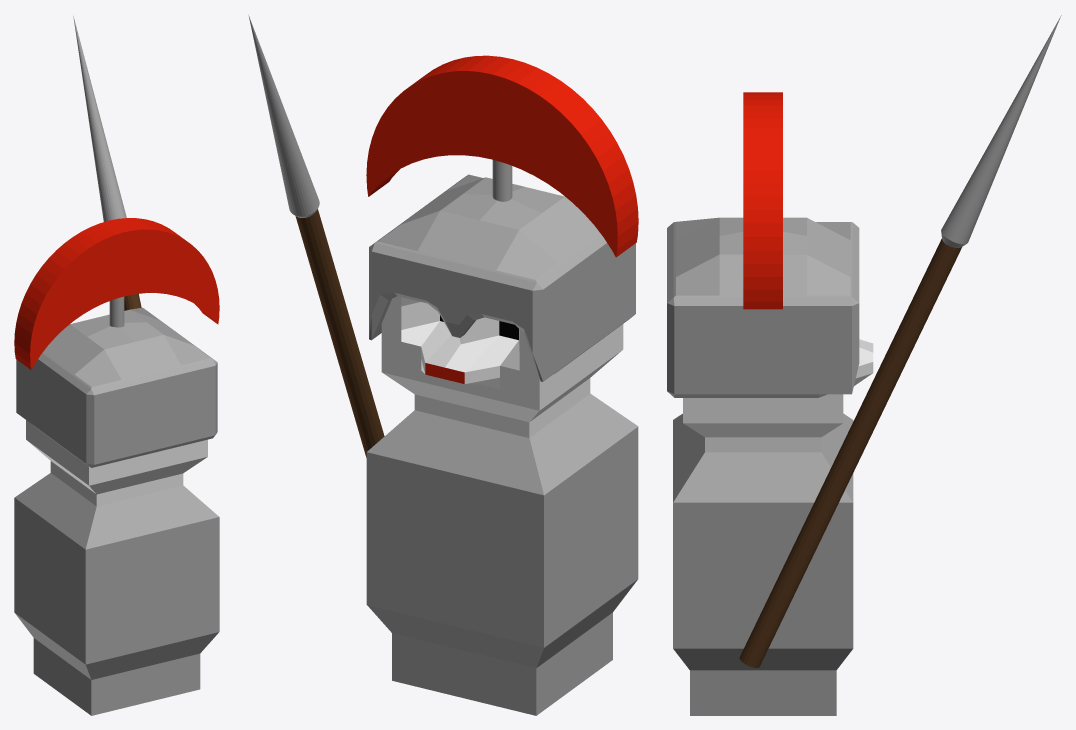
Rendered from legio2.glb.
The picture shows the model from 3 angles, left to right: view 1: azimuth 30°, elevation 25°; view 2: azimuth 150°, elevation 25°; view 3: azimuth 270°, elevation 25°; orthographic projection. The views are drawn at different scales.
Parts seen in each view (by area): view 1: Cube, Cube.001, Cylinder, Cone, Cylinder.001; view 2: Cube, Cube.001, Cylinder, Cylinder.002, Cone, Cylinder.001; view 3: Cube, Cube.001, Cylinder.002, Cylinder, Cone.
Boxes of the visible parts, x1=… form: Cube: x1=14, y1=420, x2=219, y2=715; Cube.001: x1=16, y1=307, x2=217, y2=467; Cylinder: x1=14, y1=218, x2=219, y2=369; Cone: x1=73, y1=16, x2=126, y2=221; Cylinder.001: x1=109, y1=296, x2=124, y2=327; Cube: x1=366, y1=296, x2=638, y2=715; Cube.001: x1=369, y1=174, x2=635, y2=381; Cylinder: x1=366, y1=55, x2=638, y2=257; Cylinder.002: x1=295, y1=209, x2=384, y2=457; Cone: x1=248, y1=15, x2=319, y2=218; Cylinder.001: x1=492, y1=160, x2=512, y2=201; Cube: x1=673, y1=339, x2=873, y2=715; Cube.001: x1=667, y1=217, x2=859, y2=397; Cylinder.002: x1=739, y1=238, x2=961, y2=667; Cylinder: x1=743, y1=92, x2=782, y2=309; Cone: x1=941, y1=15, x2=1061, y2=247.
Size of the model in its own units: 2 by 5.68 by 2.85.
